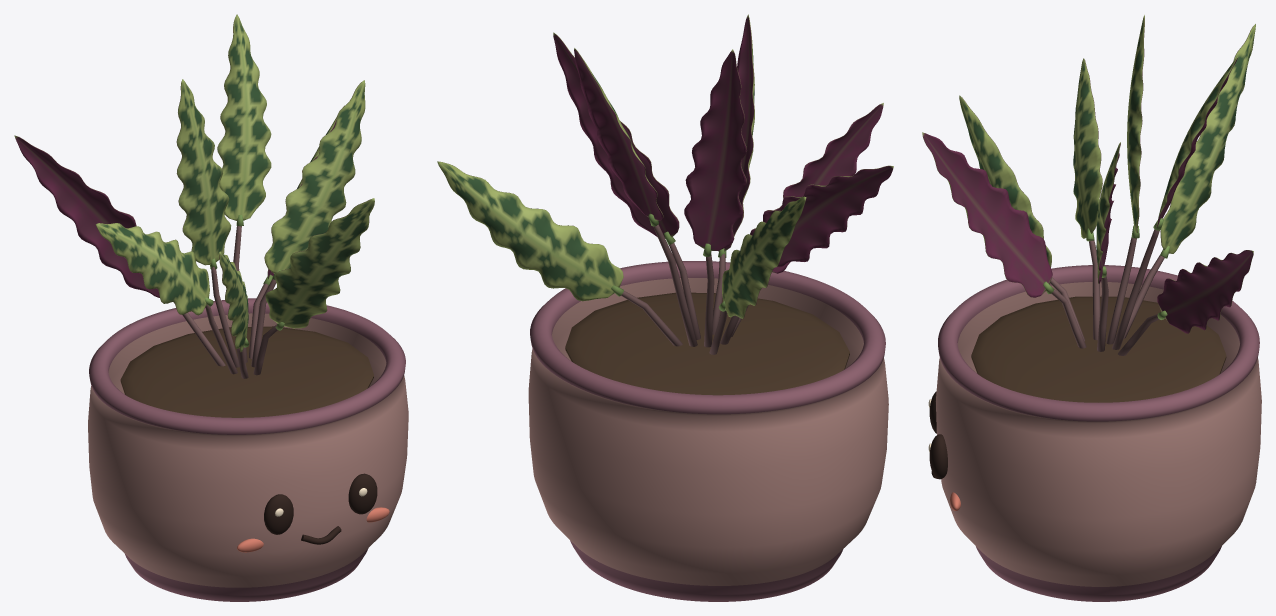
Rendered from rattlesnake-plant-v1.glb.
The picture shows the model from 3 angles, left to right: view 1: azimuth 30°, elevation 25°; view 2: azimuth 150°, elevation 25°; view 3: azimuth 270°, elevation 25°; orthographic projection. The views are drawn at different scales.
Visible parts, largest first — view 1: Wheel-thrown ceramic, Foliage draw mesh, Soil, Eye, Eye.001; view 2: Wheel-thrown ceramic, Foliage draw mesh, Soil; view 3: Wheel-thrown ceramic, Foliage draw mesh, Soil, Eye.001.
Part boxes in pixels (bbox=[...]): Wheel-thrown ceramic: bbox=[88, 298, 408, 601]; Foliage draw mesh: bbox=[14, 14, 374, 378]; Soil: bbox=[120, 326, 373, 417]; Eye: bbox=[264, 494, 293, 534]; Eye.001: bbox=[348, 473, 377, 514]; Wheel-thrown ceramic: bbox=[528, 261, 888, 601]; Foliage draw mesh: bbox=[437, 14, 893, 354]; Soil: bbox=[565, 292, 849, 395]; Wheel-thrown ceramic: bbox=[936, 265, 1261, 601]; Foliage draw mesh: bbox=[922, 15, 1255, 355]; Soil: bbox=[971, 296, 1226, 402]; Eye.001: bbox=[929, 434, 947, 479].
Bounding box in the file's own units: 1.89 × 2.65 × 1.56.
